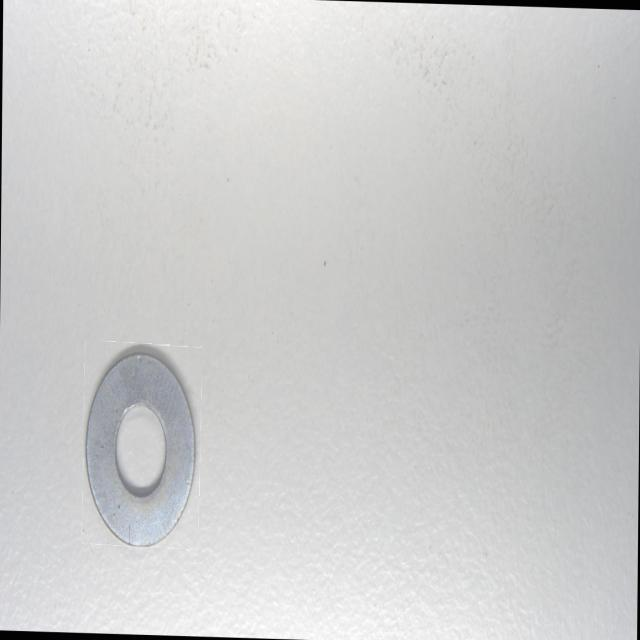washer: (84, 342, 200, 544)
